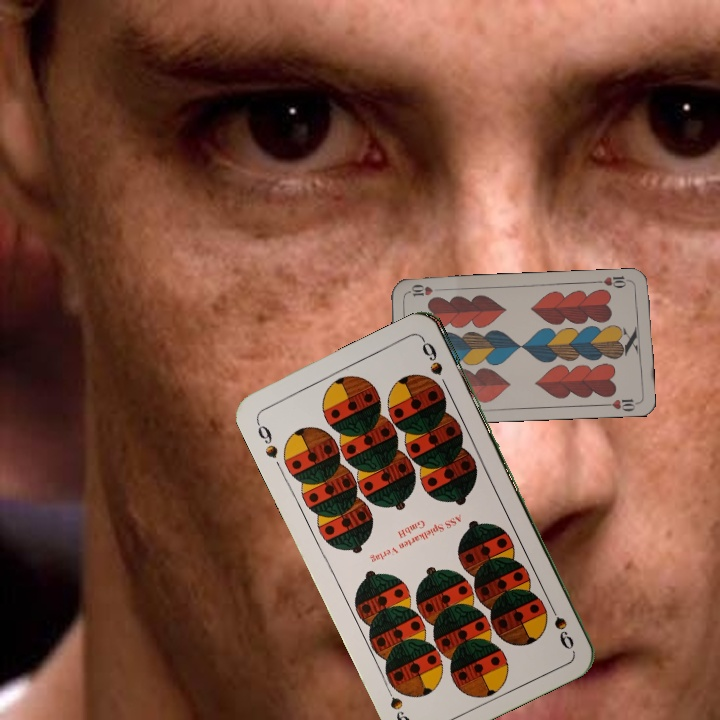H10: (593, 272, 634, 291)
S9: (543, 597, 577, 653), (251, 416, 281, 462)
